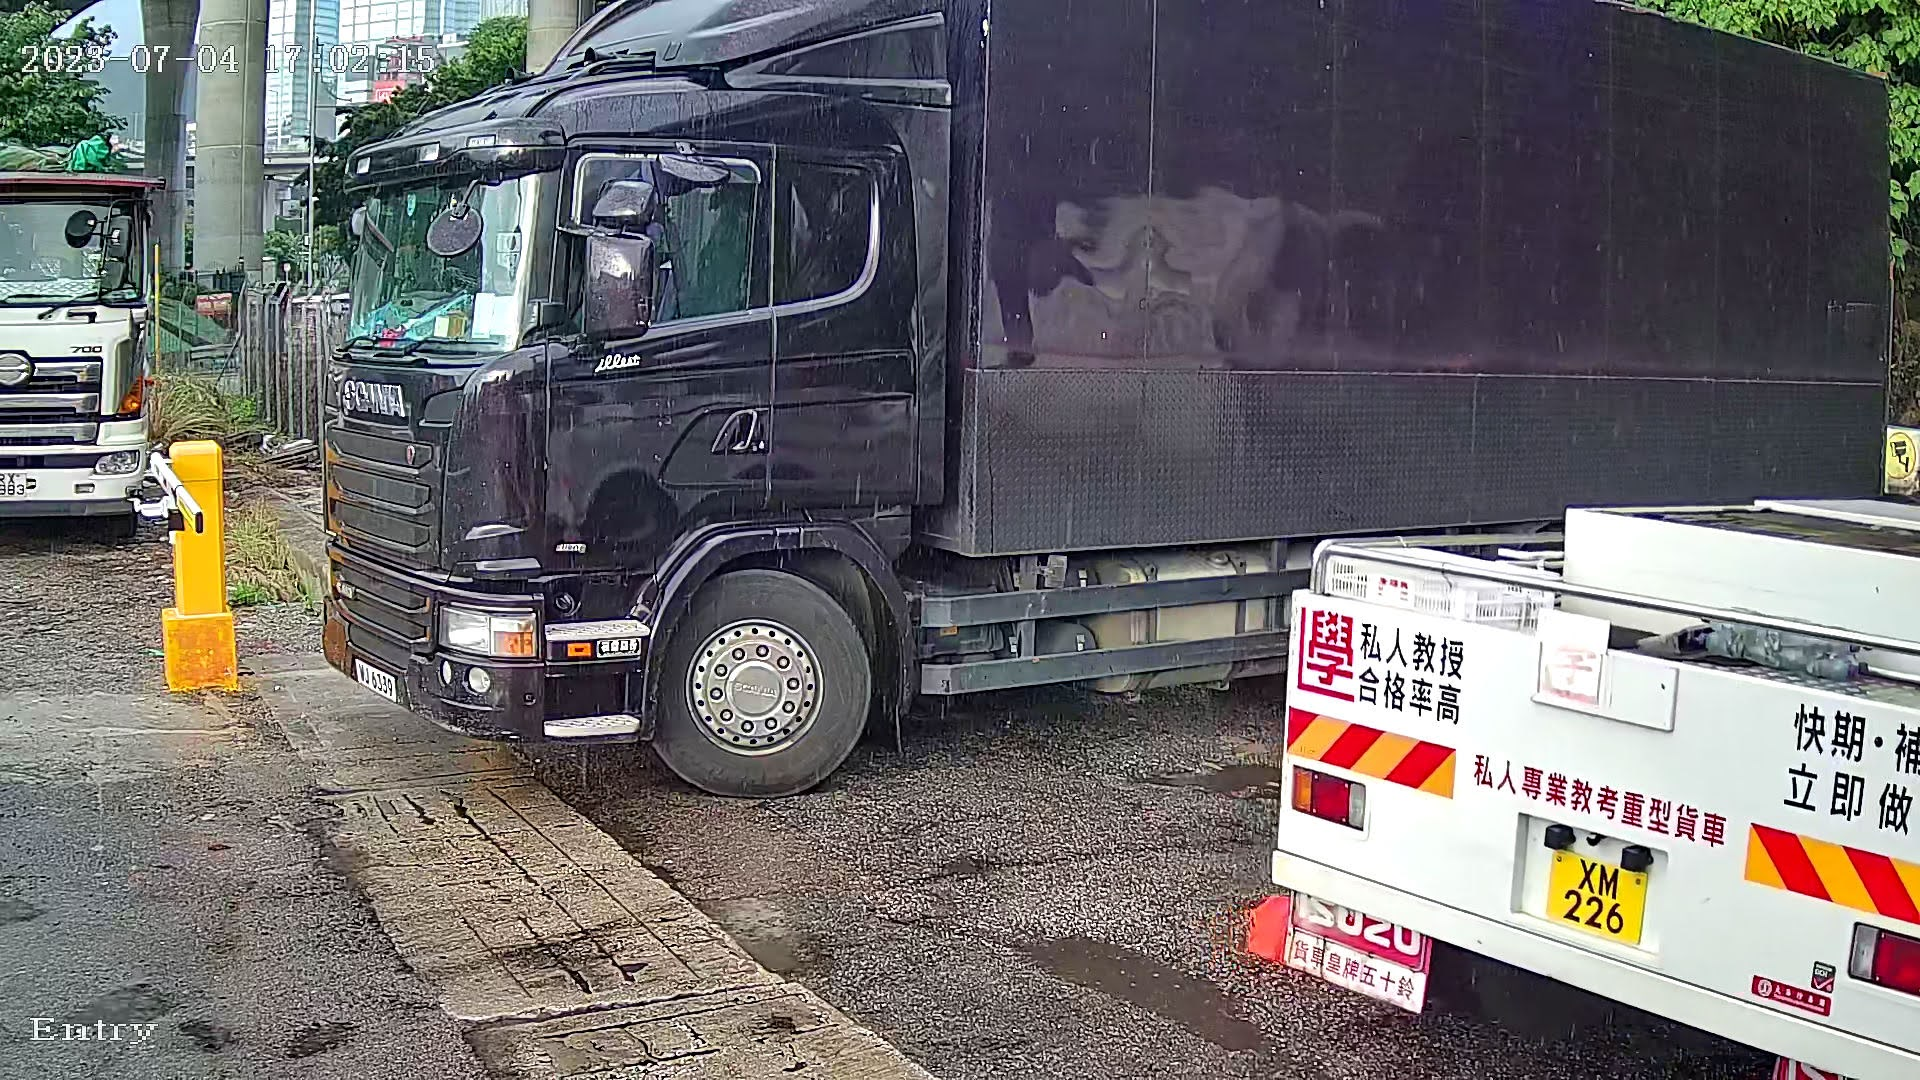truck: (280, 1, 1905, 799)
